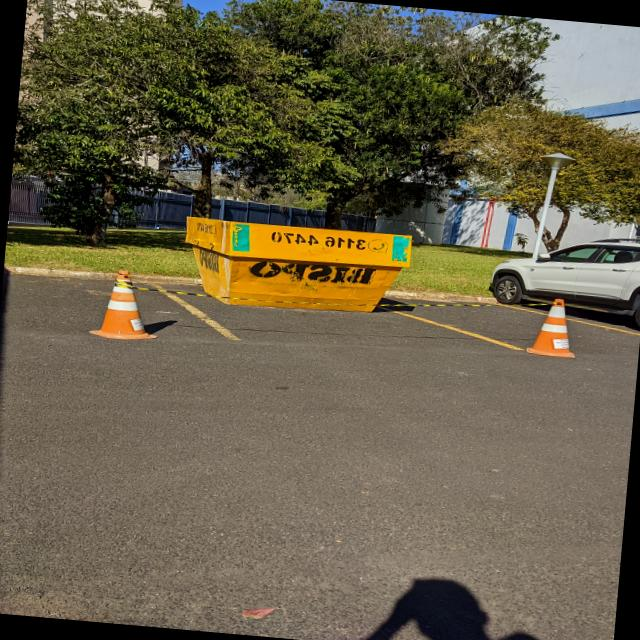cone: (83, 263, 166, 345), (520, 293, 586, 362)
